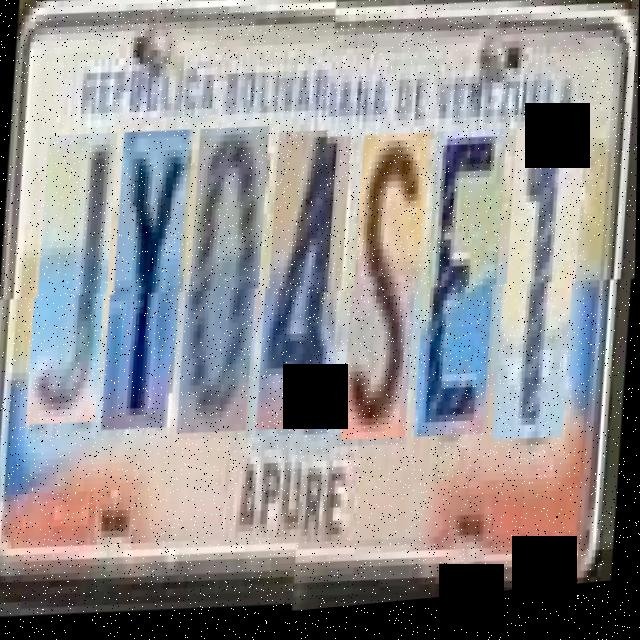1: (498, 134, 586, 454)
4: (260, 140, 352, 445)
E: (418, 135, 508, 449)
J: (30, 138, 117, 437)
O: (181, 135, 270, 447)
S: (346, 138, 432, 451)
Y: (106, 137, 193, 442)
